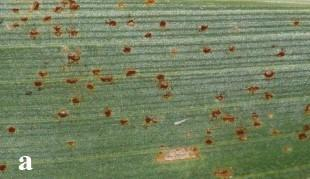Corn_Common_Rust: (3, 0, 98, 118), (243, 39, 310, 179), (99, 59, 194, 131), (97, 0, 189, 58), (195, 83, 249, 179), (190, 15, 249, 63), (147, 132, 201, 179), (275, 7, 310, 50), (62, 134, 83, 157), (0, 119, 21, 136), (0, 161, 16, 172)
